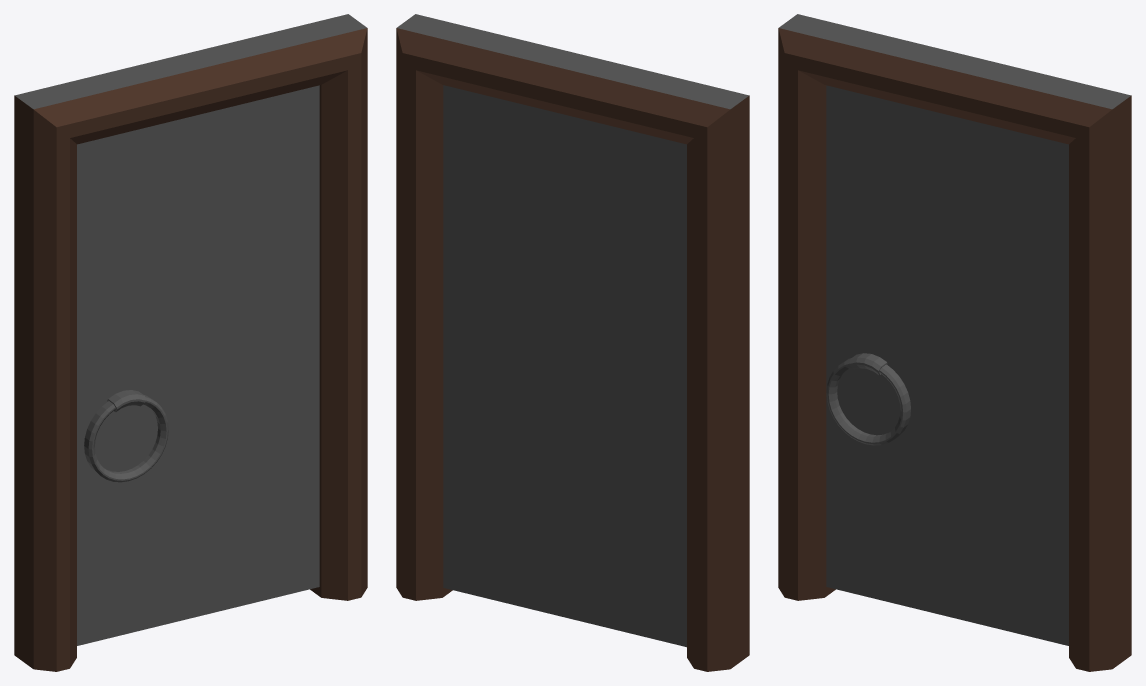
Rendered from Porta Menor.fbx.
3 renders of one model, left to right at view 1: azimuth 30°, elevation 25°; view 2: azimuth 150°, elevation 25°; view 3: azimuth 330°, elevation 25°, orthographic.
Visible parts, largest first — view 1: Cube.001; view 2: Cube.001; view 3: Cube.001.
Part boxes in pixels (box(x1,y1,x2,y2)): Cube.001: box(14, 14, 367, 671); Cube.001: box(396, 14, 749, 671); Cube.001: box(778, 14, 1131, 671).
Bounding box in the file's own units: 441 × 707 × 82.27.
